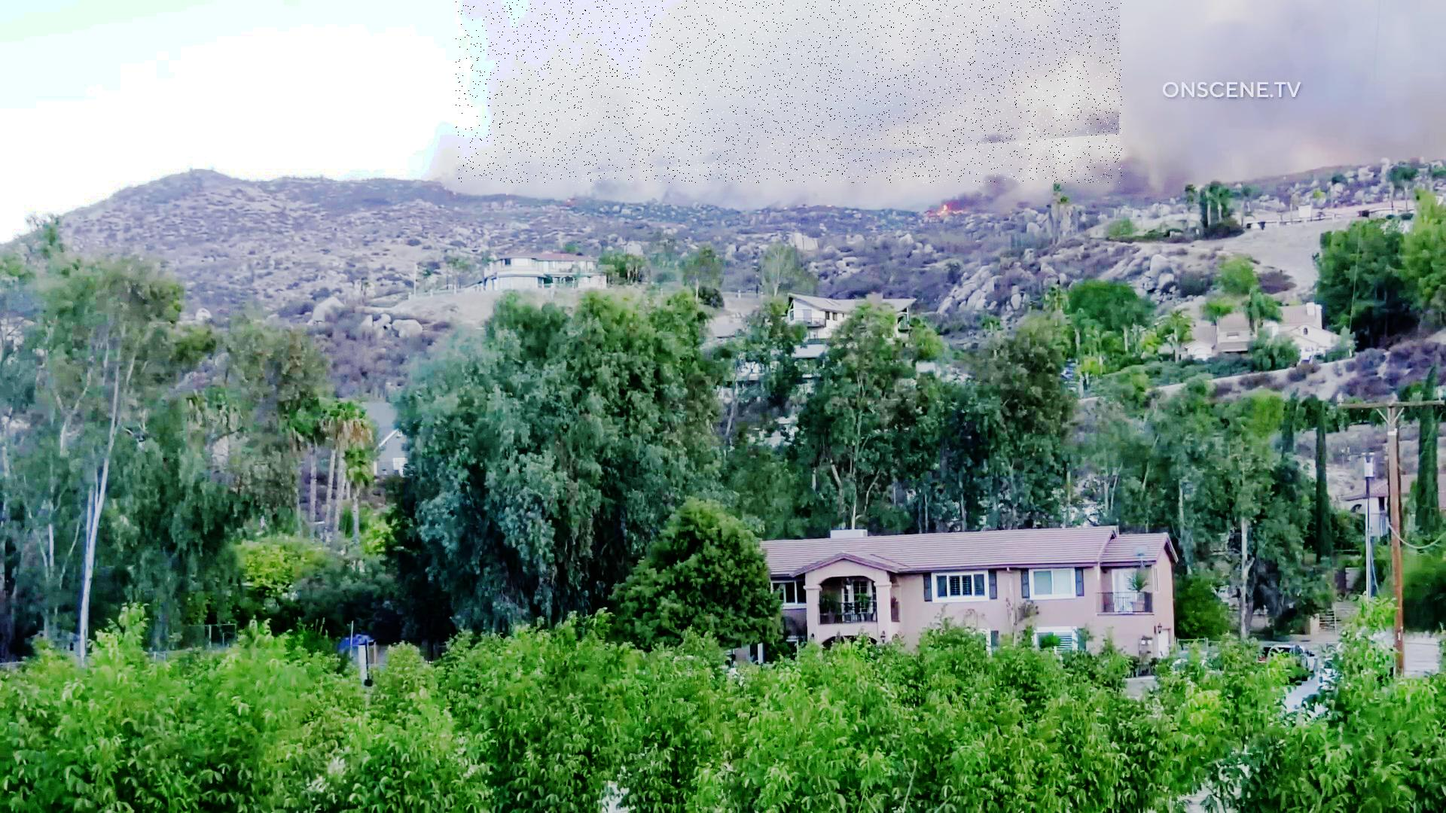smoke: (456, 0, 1123, 183)
